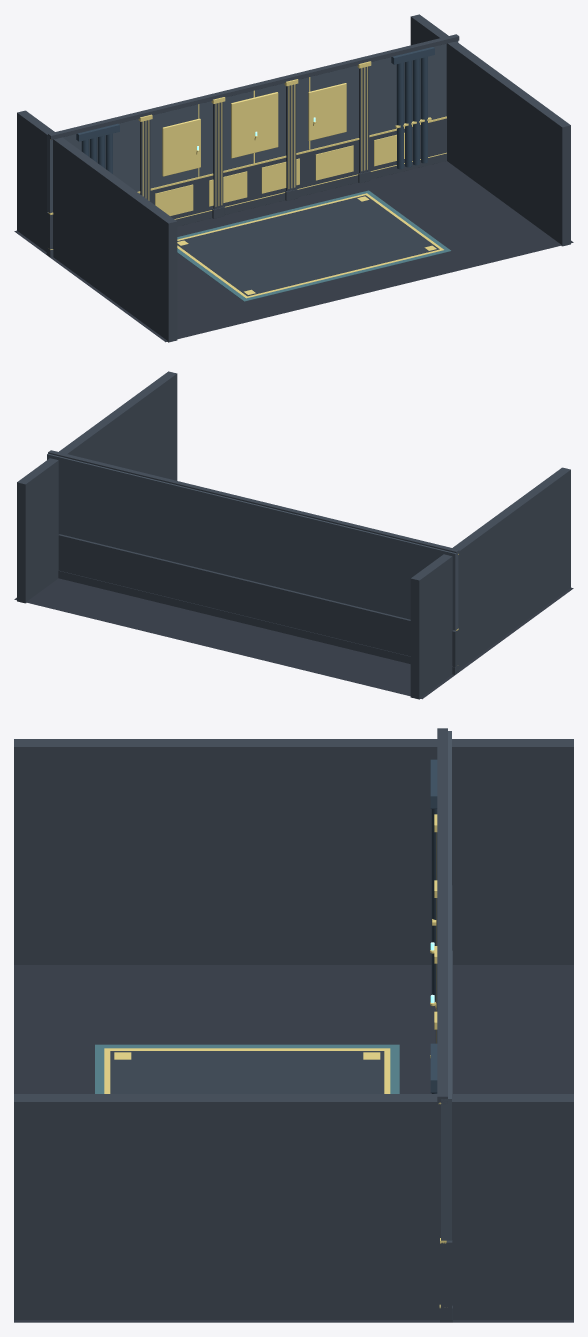
The model's file is room_cyber_casino.glb.
The picture shows the model from 3 angles, top to bottom: view 1: azimuth 30°, elevation 25°; view 2: azimuth 150°, elevation 25°; view 3: azimuth 270°, elevation 25°; orthographic projection. The views are drawn at different scales.
Parts seen in each view (by area): view 1: Floor.007, SideWall_Left.007, SideWall_Right.007, ClubRug_Inner.007, BackWall_Upper.007, BackWall_Lower.007, CrownMolding.007, FrameOuter_CenterGrandArt.007, ClubRug_Outer.007, FrameOuter_RightArt.007, FrameOuter_LeftArt.007, Baseboard.007 (+15 smaller); view 2: BackWall_Upper.007, SideWall_Left.007, BackWall_Lower.007, Floor.007, SideWall_Right.007, Baseboard.007, CrownMolding.007; view 3: SideWall_Right.007, SideWall_Left.007, Floor.007, ClubRug_Inner.007, CrownMolding.007, BackWall_Upper.007, ClubRug_Outer.007, ClubRug_Stripe.007, BackWall_Lower.007, DraperyFold_Left_3.007.
Boxes of the visible parts, x1=… form: Floor.007: x1=14, y1=161, x2=573, y2=342; SideWall_Left.007: x1=17, y1=110, x2=177, y2=342; SideWall_Right.007: x1=410, y1=14, x2=570, y2=246; ClubRug_Inner.007: x1=177, y1=195, x2=439, y2=296; BackWall_Upper.007: x1=47, y1=41, x2=458, y2=212; BackWall_Lower.007: x1=47, y1=118, x2=446, y2=249; CrownMolding.007: x1=48, y1=34, x2=459, y2=139; FrameOuter_CenterGrandArt.007: x1=231, y1=92, x2=278, y2=158; ClubRug_Outer.007: x1=177, y1=190, x2=450, y2=301; FrameOuter_RightArt.007: x1=308, y1=83, x2=346, y2=140; FrameOuter_LeftArt.007: x1=162, y1=118, x2=200, y2=176; Baseboard.007: x1=46, y1=153, x2=446, y2=257; BackWall_Upper.007: x1=47, y1=453, x2=458, y2=630; SideWall_Left.007: x1=410, y1=467, x2=570, y2=699; BackWall_Lower.007: x1=58, y1=534, x2=458, y2=667; Floor.007: x1=14, y1=578, x2=573, y2=699; SideWall_Right.007: x1=17, y1=371, x2=177, y2=603; Baseboard.007: x1=58, y1=570, x2=458, y2=674; CrownMolding.007: x1=48, y1=450, x2=459, y2=553; SideWall_Right.007: x1=14, y1=1094, x2=573, y2=1319; SideWall_Left.007: x1=14, y1=739, x2=573, y2=964; Floor.007: x1=14, y1=965, x2=573, y2=1322; ClubRug_Inner.007: x1=110, y1=1051, x2=384, y2=1093; CrownMolding.007: x1=437, y1=728, x2=447, y2=1104; BackWall_Upper.007: x1=441, y1=731, x2=451, y2=1240; ClubRug_Outer.007: x1=95, y1=1044, x2=399, y2=1093; ClubRug_Stripe.007: x1=104, y1=1048, x2=390, y2=1093; BackWall_Lower.007: x1=440, y1=885, x2=452, y2=1308; DraperyFold_Left_3.007: x1=431, y1=809, x2=437, y2=1000.
Bounding box in the file's own units: 28 × 8.09 × 18.
